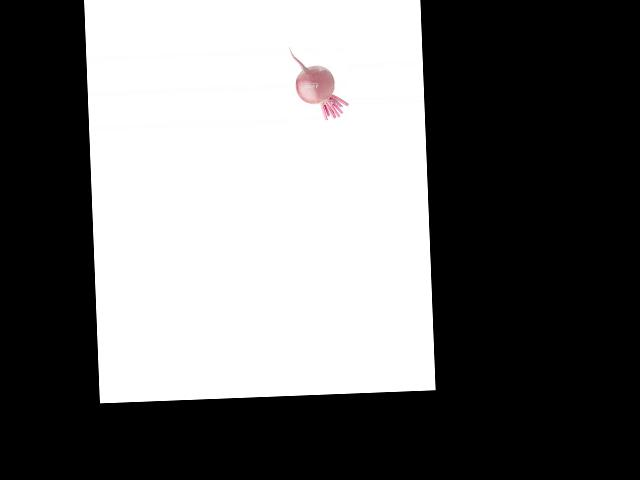beet: (289, 46, 349, 121)
